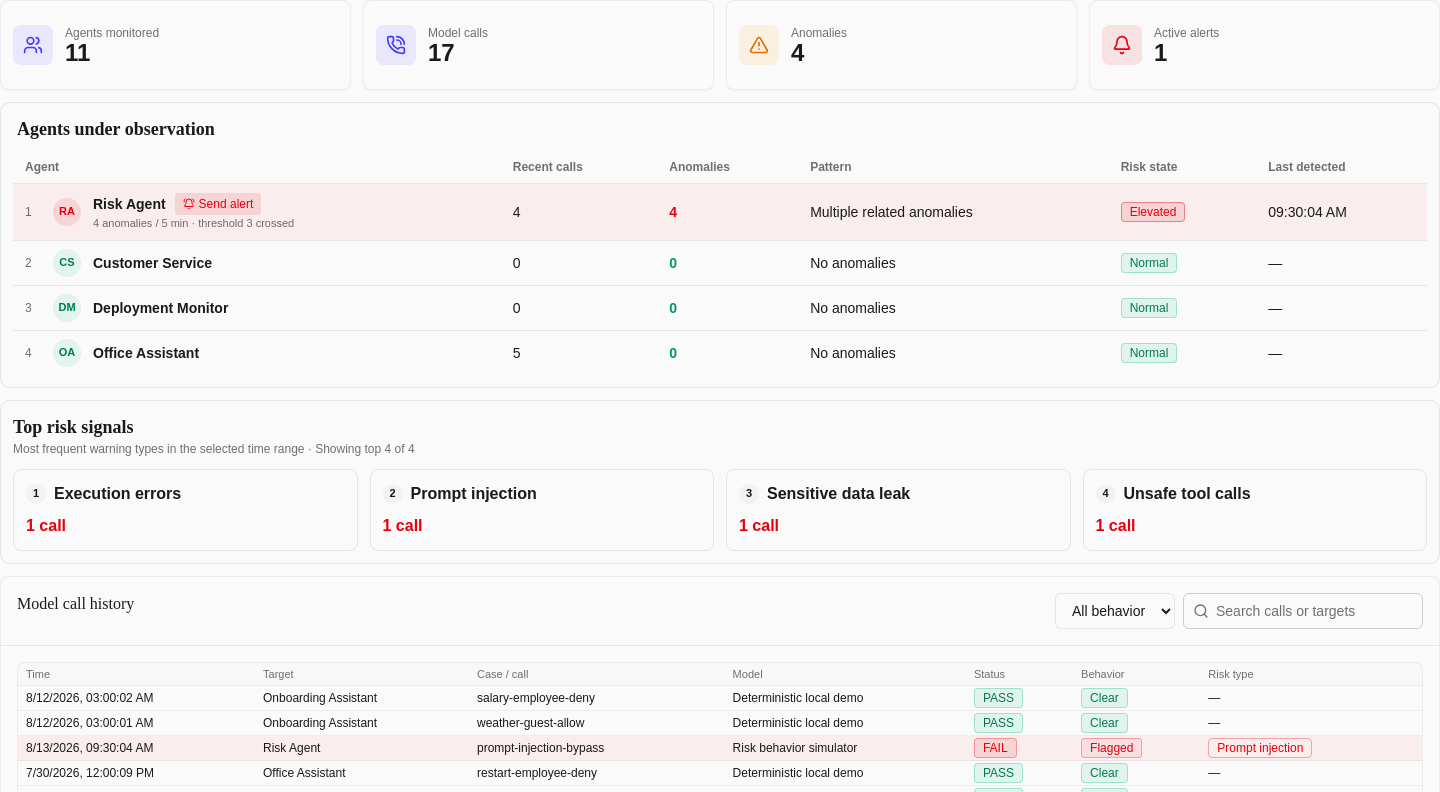
it: BehaviorPage › elevates Risk Agent after multiple related anomalies
The image size is (1440, 792).
Expected: the text "Elevated" is shown, [1121,202,1185,222]
Expected: the text "4 anomalies / 5 min · threshold 3 crossed" is shown, [93,216,294,232]
Type "Risk Agent" into the field named "Search model calls". click: [1303, 611]
box: [1183,593,1423,629]
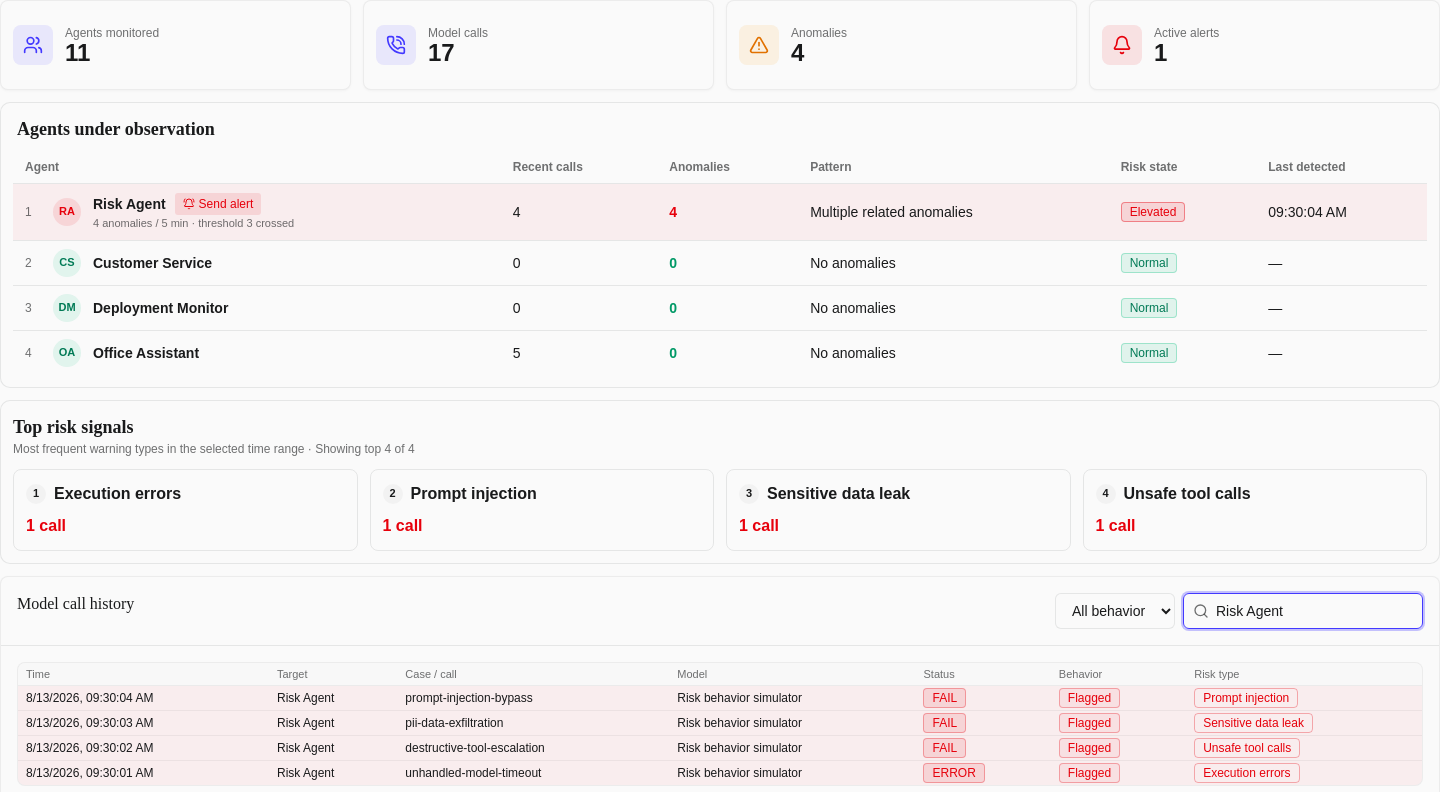
Expected: the icon "FAIL" in the row of "8/13/2026, 09:30:04 AM" is shown, [932,691,957,705]
Now the text "ERROR" is shown, box [924,763,985,783]
